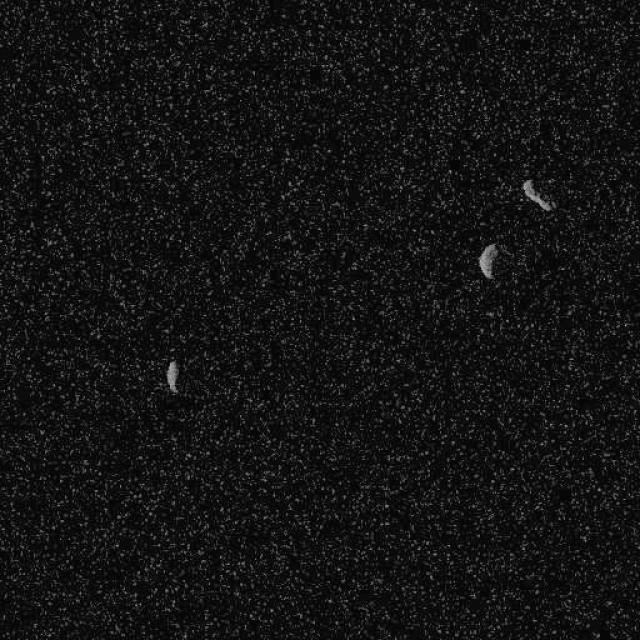D2: (520, 178, 555, 212), (476, 242, 499, 280), (165, 358, 179, 392)
